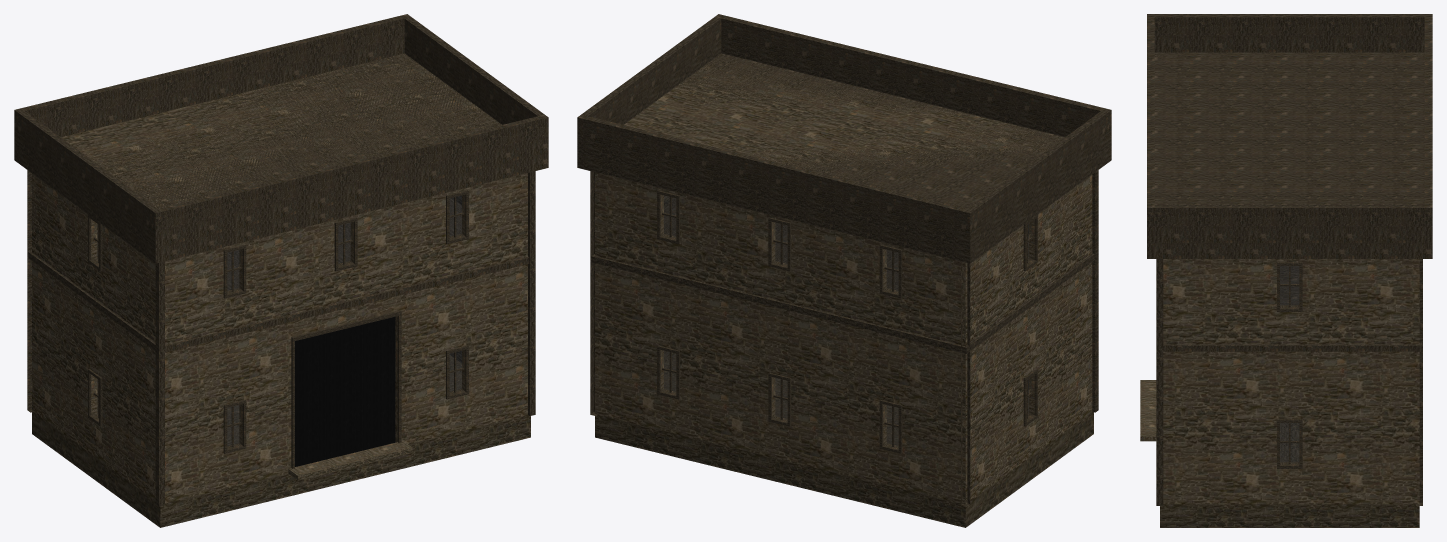
The model's file is dungeon_gate_01.glb.
3 renders of one model, left to right at view 1: azimuth 30°, elevation 25°; view 2: azimuth 150°, elevation 25°; view 3: azimuth 270°, elevation 25°, orthographic.
Parts seen in each view (by area): view 1: dungeon_gate_01; view 2: dungeon_gate_01; view 3: dungeon_gate_01.
Boxes of the visible parts, bbox=[...] form: dungeon_gate_01: bbox=[14, 14, 548, 527]; dungeon_gate_01: bbox=[577, 14, 1111, 527]; dungeon_gate_01: bbox=[1140, 14, 1432, 527].
Size of the model in its own units: 10.6 by 8.3 by 6.75.
6 materials, 5 textured.
